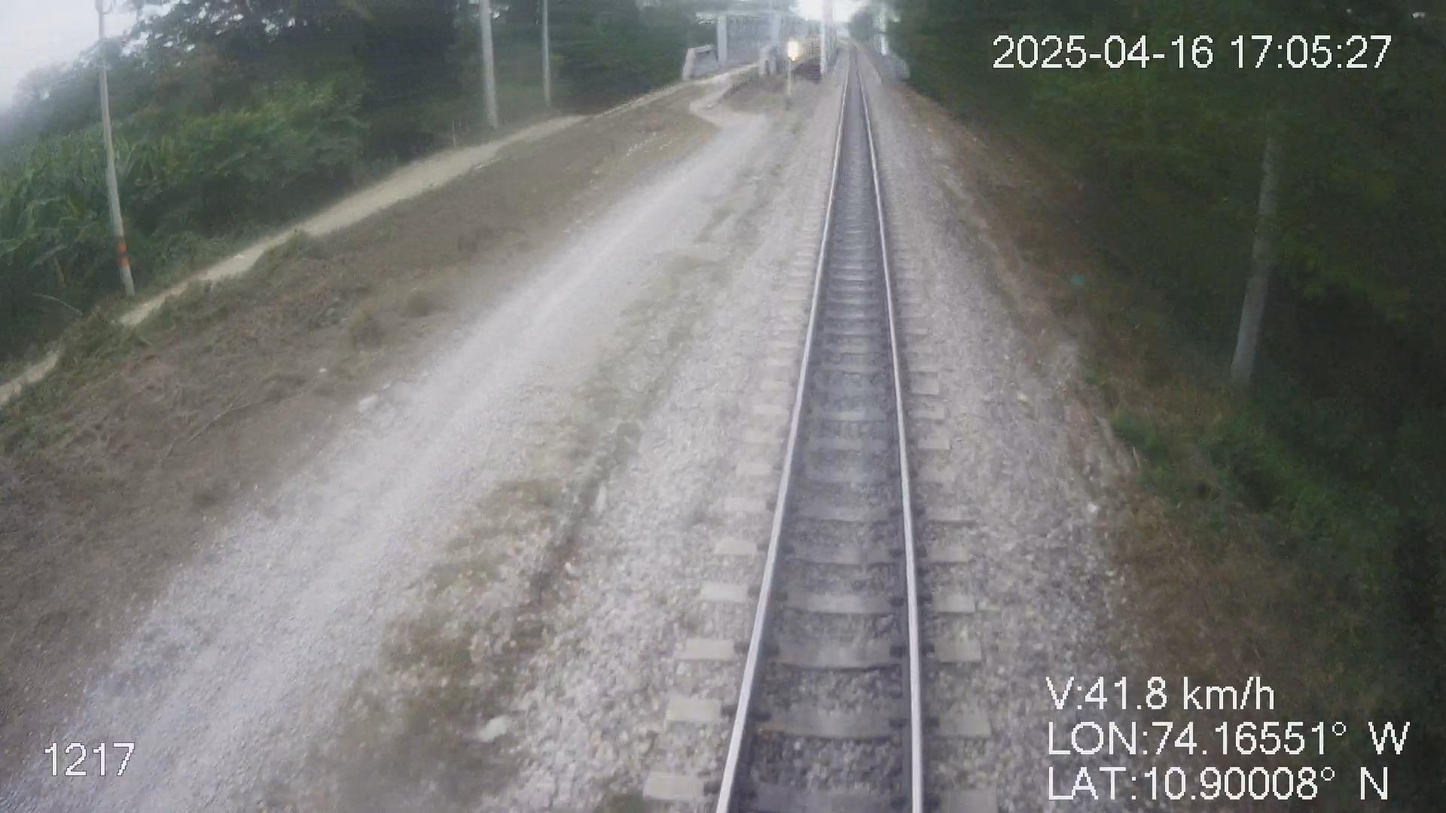Pasto: (0, 0, 799, 661), (885, 0, 1445, 741)
